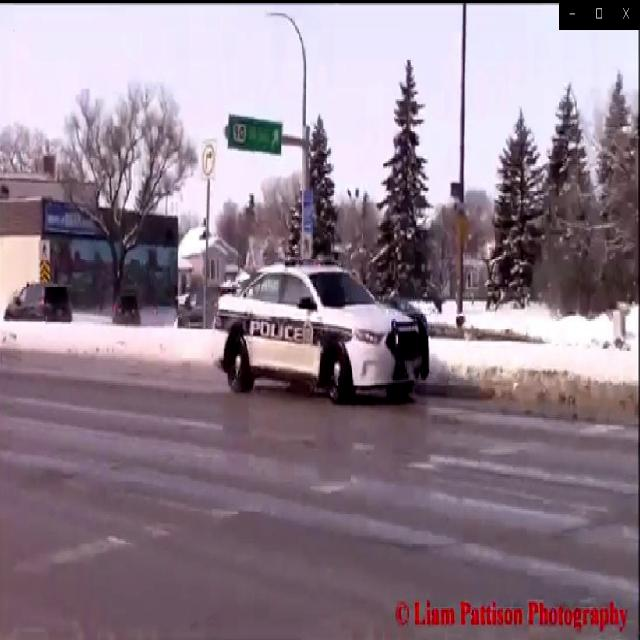emergency: (211, 257, 428, 396)
